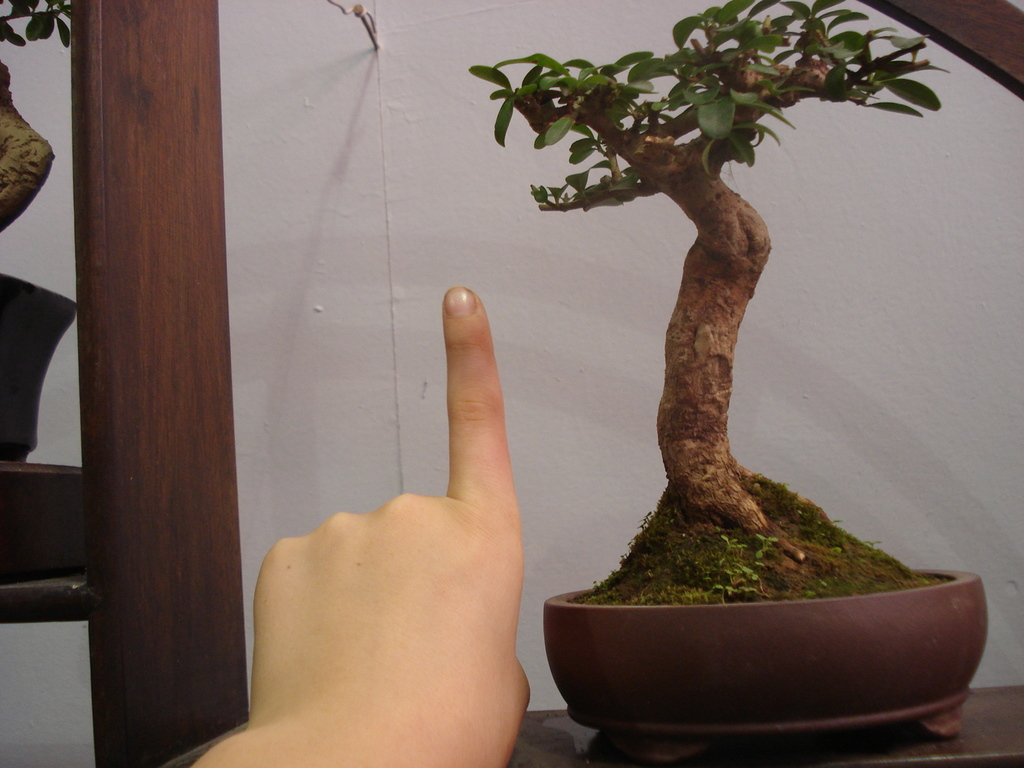person: (0, 13, 72, 472)
